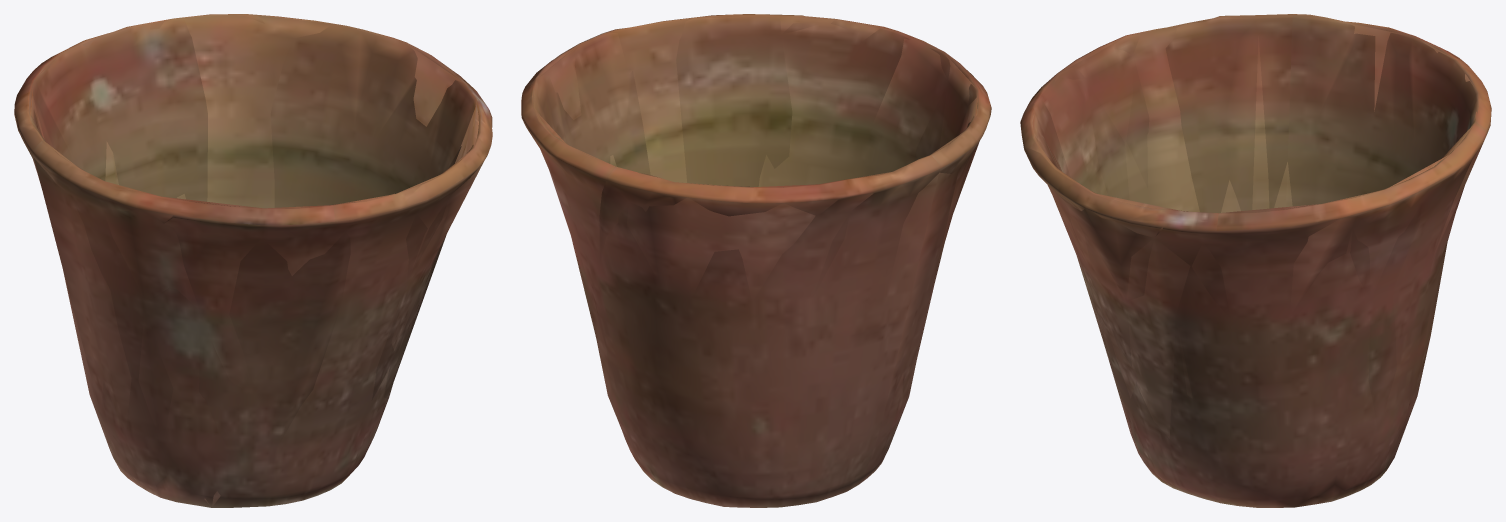
File: planter_pot_clay.glb
The picture shows the model from 3 angles, left to right: view 1: azimuth 30°, elevation 25°; view 2: azimuth 150°, elevation 25°; view 3: azimuth 270°, elevation 25°; orthographic projection.
Parts seen in each view (by area): view 1: planter_pot_clay, planter_pot_clay_lo; view 2: planter_pot_clay, planter_pot_clay_lo; view 3: planter_pot_clay, planter_pot_clay_lo.
Boxes of the visible parts, box(x1,y1,x2,y2) form: planter_pot_clay: box(14, 14, 492, 507); planter_pot_clay_lo: box(30, 14, 492, 506); planter_pot_clay: box(521, 14, 991, 507); planter_pot_clay_lo: box(529, 14, 979, 483); planter_pot_clay: box(1020, 14, 1491, 507); planter_pot_clay_lo: box(1032, 15, 1483, 503).
Size of the model in its own units: 0.2657 by 0.2218 by 0.2634.
1 material, 1 textured.
